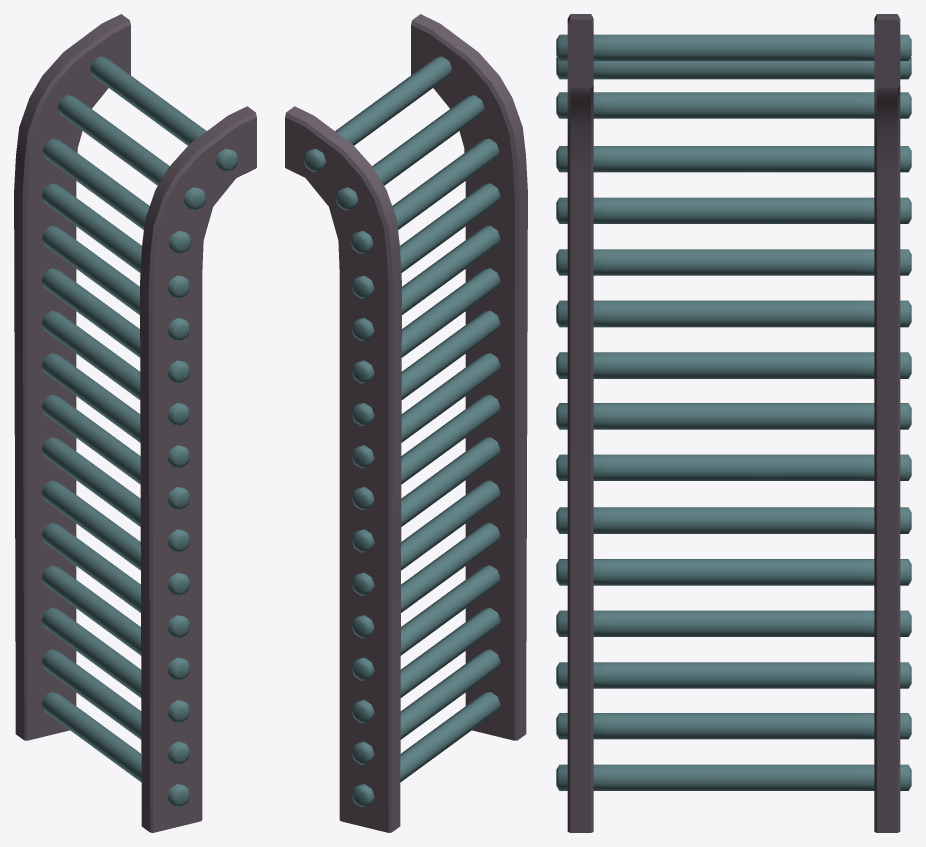
File: GB_129_ladder_var01.glb
The picture shows the model from 3 angles, left to right: view 1: azimuth 30°, elevation 25°; view 2: azimuth 150°, elevation 25°; view 3: azimuth 270°, elevation 25°; orthographic projection. The views are drawn at different scales.
Parts seen in each view (by area): view 1: Ladder129Var01; view 2: Ladder129Var01; view 3: Ladder129Var01.
Boxes of the visible parts, x1,y1,x2,y2 form: Ladder129Var01: (14, 14, 256, 832); Ladder129Var01: (285, 14, 527, 832); Ladder129Var01: (556, 14, 911, 832).
Bounding box in the file's own units: 0.4723 × 2.92 × 1.11.
